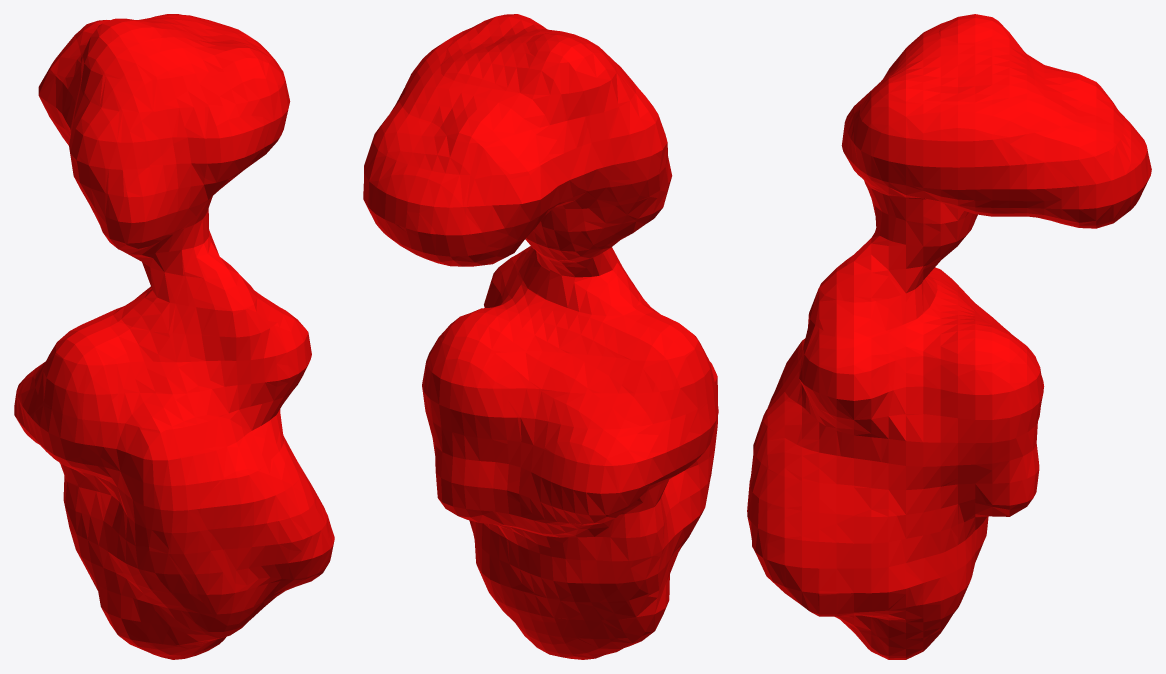
Rendered from yfbU_coarse.dae.
3 renders of one model, left to right at view 1: azimuth 30°, elevation 25°; view 2: azimuth 150°, elevation 25°; view 3: azimuth 270°, elevation 25°, orthographic. The views are drawn at different scales.
Parts seen in each view (by area): view 1: yfbU; view 2: yfbU; view 3: yfbU.
Part boxes in pixels (x1,y1,x2,y2): yfbU: [14, 14, 334, 659]; yfbU: [363, 14, 718, 659]; yfbU: [747, 14, 1151, 659].
Size of the model in its own units: 33.16 by 78.35 by 46.18.
